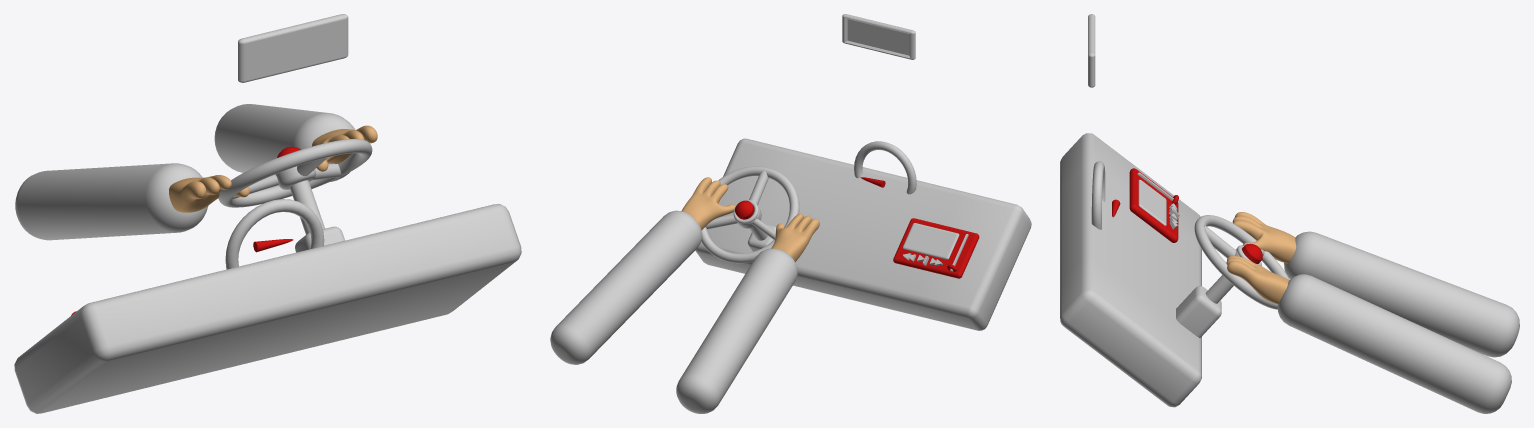
The model's file is DASHBOARD.fbx.
3 views of the same model, side by side, from view 1: azimuth 30°, elevation 25°; view 2: azimuth 150°, elevation 25°; view 3: azimuth 270°, elevation 25° (orthographic). The views are drawn at different scales.
Parts seen in each view (by area): view 1: DASHBOARD_BASE, TURN, RETRO, SPEED_SCREEN, Cylindre, Cube; view 2: DASHBOARD_BASE, TURN, RETRO, RADIO_BASE, SCREEN, SPEED_SCREEN; view 3: TURN, DASHBOARD_BASE, Cube, RADIO_BASE, SCREEN, SPEED_SCREEN, RETRO, Cylindre.
Boxes of the visible parts, x1,y1,x2,y2 form: DASHBOARD_BASE: (14, 203, 521, 413); TURN: (15, 104, 377, 240); RETRO: (238, 14, 348, 82); SPEED_SCREEN: (225, 199, 324, 269); Cylindre: (290, 180, 324, 234); Cube: (295, 226, 344, 252); DASHBOARD_BASE: (695, 138, 1031, 330); TURN: (550, 166, 819, 413); RETRO: (842, 14, 915, 59); RADIO_BASE: (893, 218, 979, 278); SCREEN: (902, 223, 959, 259); SPEED_SCREEN: (854, 141, 916, 194); TURN: (1194, 212, 1519, 413); DASHBOARD_BASE: (1060, 133, 1201, 407); Cube: (1176, 286, 1221, 337); RADIO_BASE: (1129, 168, 1178, 242); SCREEN: (1138, 179, 1166, 225); SPEED_SCREEN: (1091, 161, 1105, 229); RETRO: (1088, 14, 1095, 87); Cylindre: (1205, 275, 1233, 303).
Size of the model in its own units: 424 by 360 by 475.
